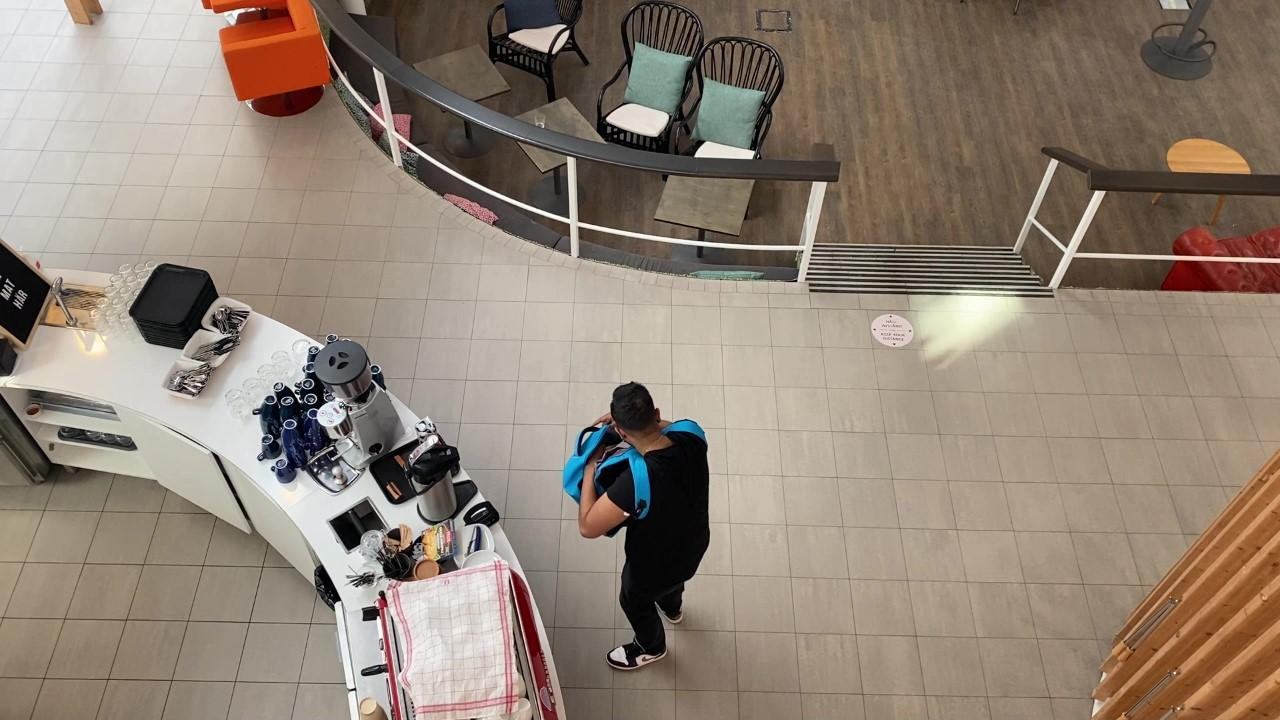shoplifting: (564, 380, 710, 672)
